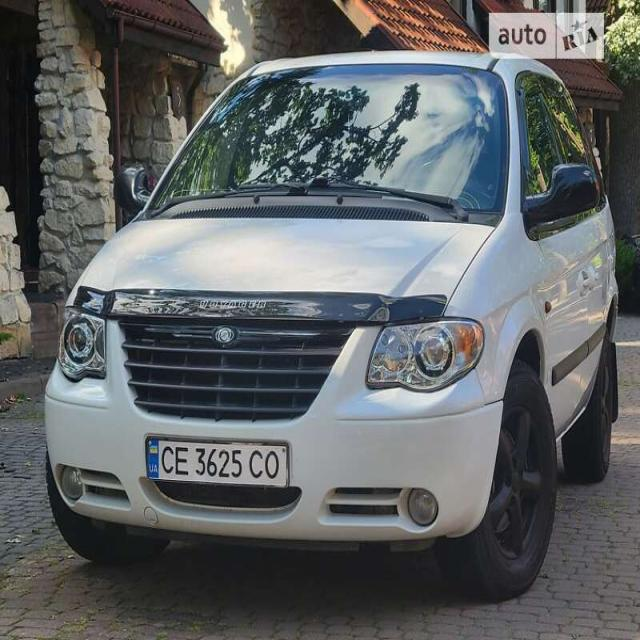plate: (140, 423, 290, 505)
